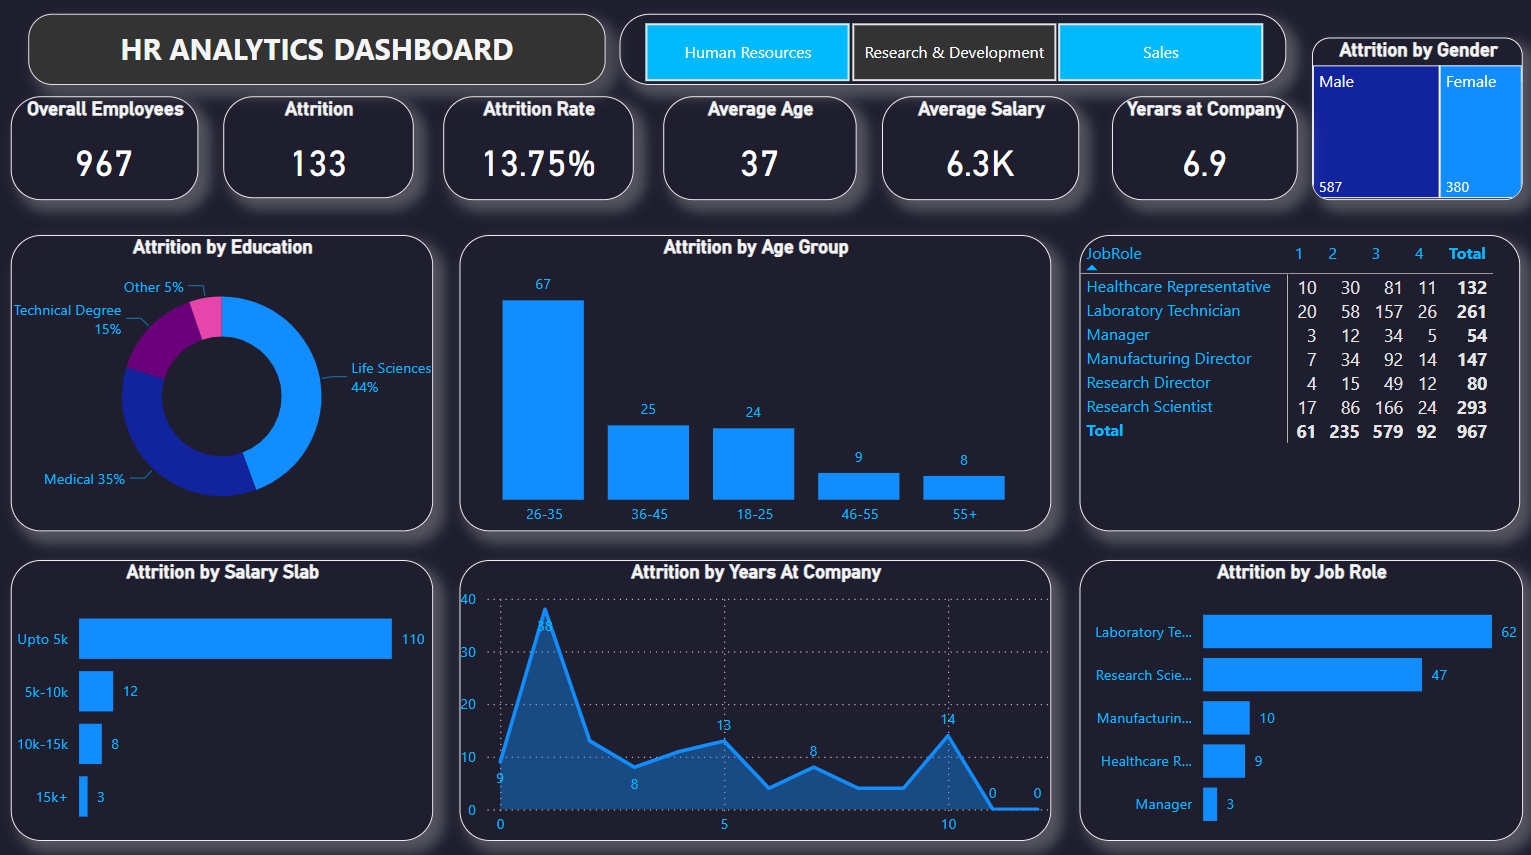

The dashboard page shown, as its layout file describes it:
{"tool":"powerbi","page":{"name":"Page 1","canvas":[1280,720],"ordinal":0},"visuals":[{"type":"cardVisual","title":"Attrition Rate","fields":{"Data":["HR_Analytics.Attrition Rate"]},"box":[370.9,83.7,158.1,86],"z":0},{"type":"cardVisual","title":"Attrition","fields":{"Data":["HR_Analytics.Attrition_Sum"]},"box":[188.4,83.7,158.1,84.9],"z":1000},{"type":"cardVisual","title":"Overall Employees","fields":{"Data":["Sum(HR_Analytics.Number of Employee)"]},"box":[11.6,83.7,155.8,86],"z":2000},{"type":"donutChart","title":"Attrition by Education","fields":{"Category":["HR_Analytics.EducationField"],"Y":["Sum(HR_Analytics.Attrition_Number)"]},"box":[11.6,200,351.2,246.5],"z":3000},{"type":"barChart","title":"Attrition by Salary Slab","fields":{"Category":["HR_Analytics.SalarySlab"],"Y":["Sum(HR_Analytics.Attrition_Number)"]},"box":[11.6,469.8,351.2,233.7],"z":4000},{"type":"barChart","title":"Attrition by Job Role","fields":{"Category":["HR_Analytics.JobRole"],"Y":["Sum(HR_Analytics.Attrition_Number)"]},"box":[900,469.8,368.6,233.7],"z":5000},{"type":"slicer","fields":{"Values":["HR_Analytics.Department"]},"box":[517.4,15.1,554.7,59.3],"z":6000},{"type":"pivotTable","fields":{"Columns":["HR_Analytics.WorkLifeBalance"],"Values":["CountNonNull(HR_Analytics.EnvironmentSatisfaction)"],"Rows":["HR_Analytics.JobRole"]},"box":[900,200,366.3,246.5],"z":7000},{"type":"columnChart","title":"Attrition by Age Group","fields":{"Y":["Sum(HR_Analytics.Attrition_Number)"],"Category":["HR_Analytics.AgeGroup"]},"box":[384.9,200,491.9,246.5],"z":8000},{"type":"areaChart","title":"Attrition by Years At Company","fields":{"Y":["Sum(HR_Analytics.Attrition_Number)"],"Category":["HR_Analytics.YearsAtCompany"]},"box":[384.9,469.8,491.9,233.7],"z":9000},{"type":"treemap","title":"Attrition by Gender","fields":{"Details":["HR_Analytics.Gender"],"Values":["CountNonNull(HR_Analytics.EmpID)"]},"box":[1093,34.9,175.6,134.9],"z":10000},{"type":"cardVisual","title":"Average Age","fields":{"Data":["Avg(HR_Analytics.Age)"]},"box":[553.5,83.7,160.5,86],"z":11000},{"type":"cardVisual","title":"Average Salary","fields":{"Data":["HR_Analytics.AvgSalary"]},"box":[736,83.7,164,86],"z":12000},{"type":"cardVisual","title":"Yerars at Company","fields":{"Data":["Avg(HR_Analytics.YearsAtCompany)"]},"box":[926.7,83.7,154.7,86],"z":13000},{"type":"textbox","box":[25.6,15.1,480.2,59.3],"z":14000}]}

Visuals, with their boxes in screenshot pixels (x1, y1, x2, y2), scaled from the page's 1280x720 canvas onto the 1531x855 screenshot:
"Attrition Rate" cardVisual: bbox=(444, 99, 633, 202)
"Attrition" cardVisual: bbox=(225, 99, 414, 200)
"Overall Employees" cardVisual: bbox=(14, 99, 200, 202)
"Attrition by Education" donutChart: bbox=(14, 238, 434, 530)
"Attrition by Salary Slab" barChart: bbox=(14, 558, 434, 835)
"Attrition by Job Role" barChart: bbox=(1076, 558, 1517, 835)
slicer - HR_Analytics.Department: bbox=(619, 18, 1282, 88)
pivotTable - HR_Analytics.WorkLifeBalance x CountNonNull(HR_Analytics.EnvironmentSatisfaction): bbox=(1076, 238, 1515, 530)
"Attrition by Age Group" columnChart: bbox=(460, 238, 1049, 530)
"Attrition by Years At Company" areaChart: bbox=(460, 558, 1049, 835)
"Attrition by Gender" treemap: bbox=(1307, 41, 1517, 202)
"Average Age" cardVisual: bbox=(662, 99, 854, 202)
"Average Salary" cardVisual: bbox=(880, 99, 1076, 202)
"Yerars at Company" cardVisual: bbox=(1108, 99, 1293, 202)
textbox: bbox=(31, 18, 605, 88)
